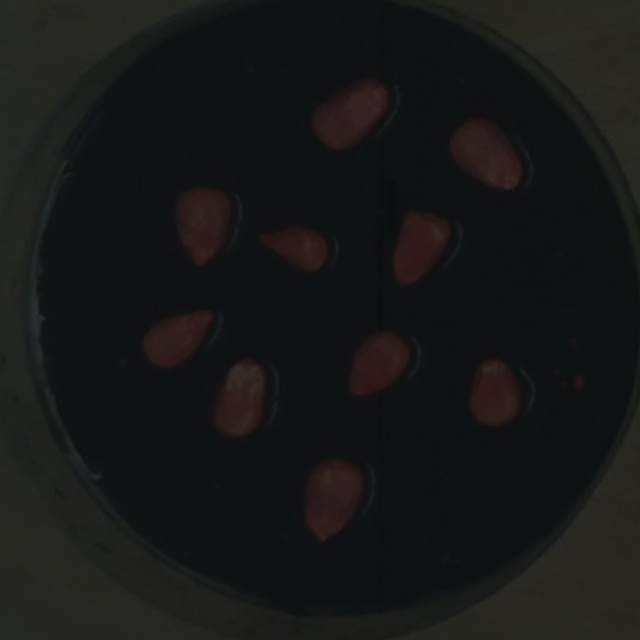Zea mays: (301, 69, 398, 155), (440, 108, 532, 197), (295, 451, 372, 548), (166, 176, 239, 273), (202, 350, 275, 445), (385, 200, 457, 292), (133, 300, 222, 374), (341, 322, 420, 402), (460, 350, 529, 433), (251, 216, 335, 280)
